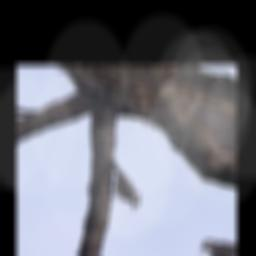Woodpecker: (89, 156, 157, 216)
